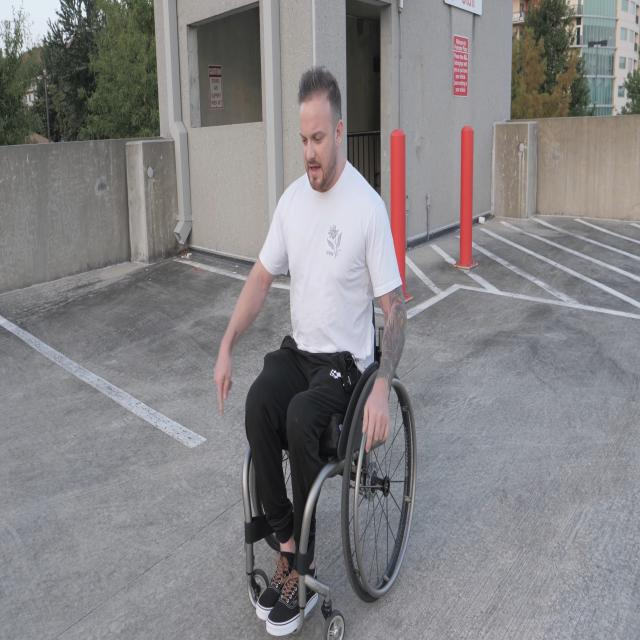wheelchairs: (242, 277, 416, 639)
